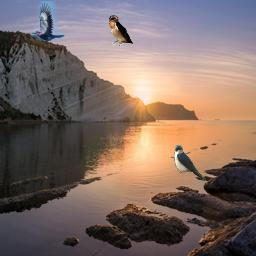Swallow: (174, 145, 206, 181), (109, 15, 133, 46)
Woodpecker: (31, 1, 65, 41)
